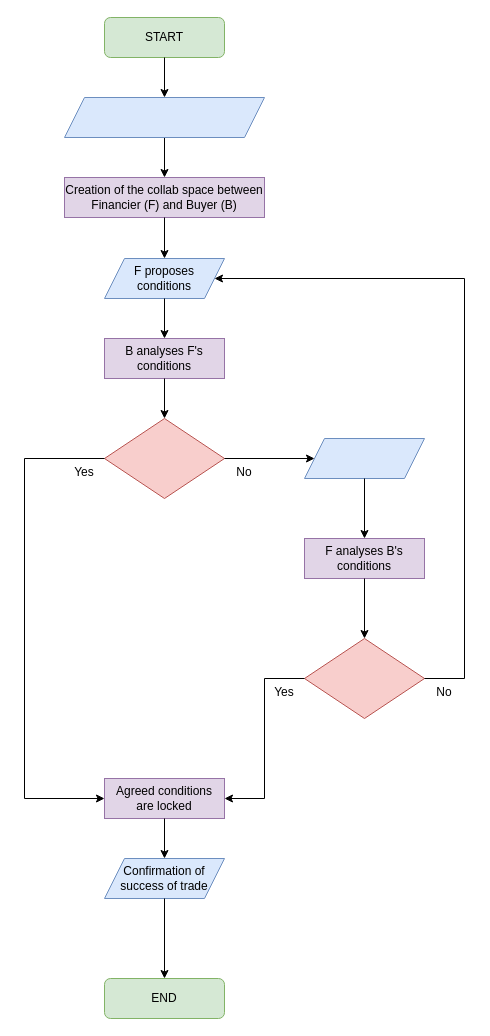
Image size: 490x1036. Some labels were removed from this diagram. The box of each missing label's shape, as (x1, y1, x2, y2) in pixels:
B agrees with F's conditions?: (104, 418, 224, 498)
B proposes conditions: (304, 438, 424, 478)
F agrees with B's conditions?: (304, 638, 424, 718)
Financier approved by all counterparties: (64, 96, 264, 138)
